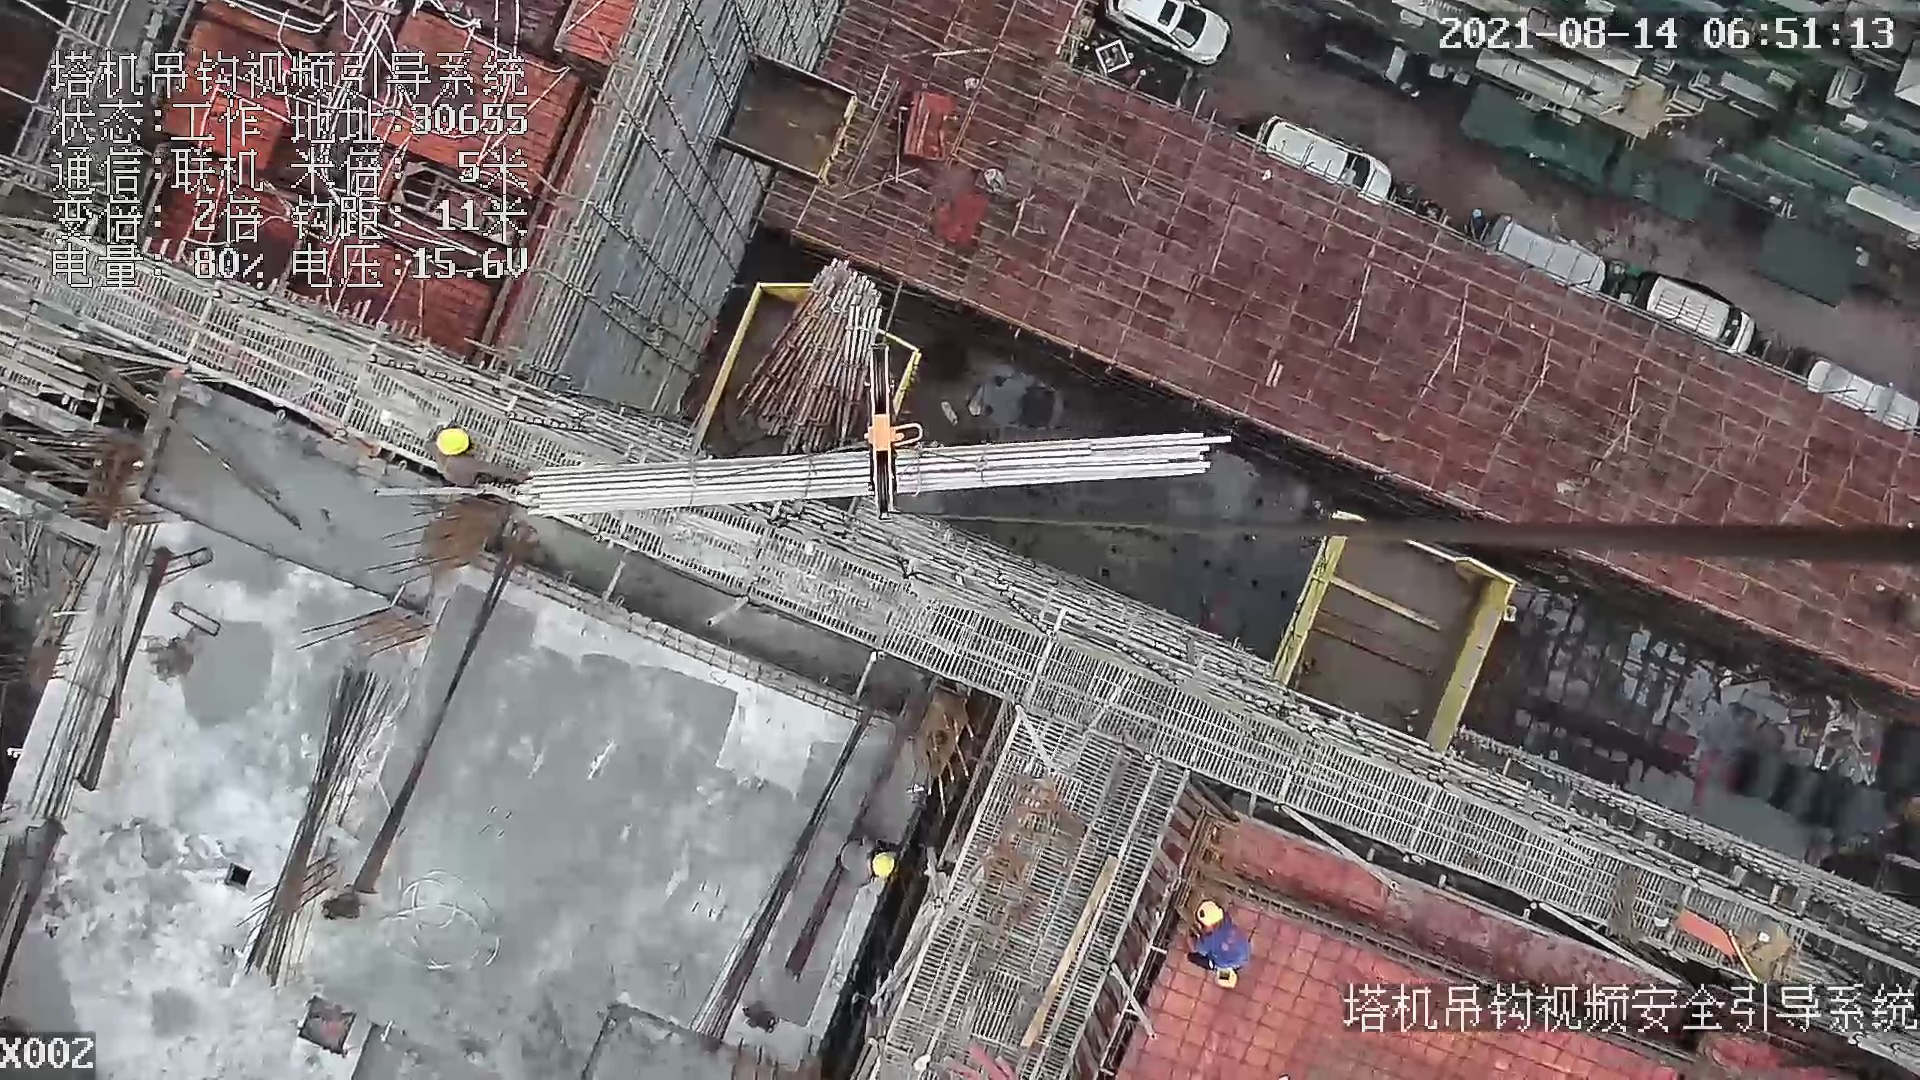helmet: (1192, 892, 1227, 929), (429, 429, 470, 457), (870, 849, 901, 877)
hook: (846, 339, 927, 522)
person: (418, 418, 537, 492), (1183, 892, 1256, 994), (836, 833, 908, 883)
rebar: (524, 430, 1238, 518), (243, 661, 397, 981)
scaffold: (736, 261, 878, 451)
